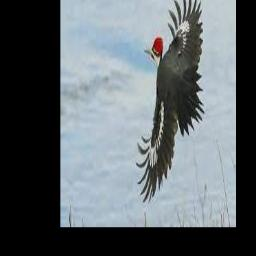Woodpecker: (135, 0, 205, 202)
